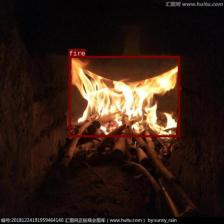fire: (68, 56, 180, 137)
